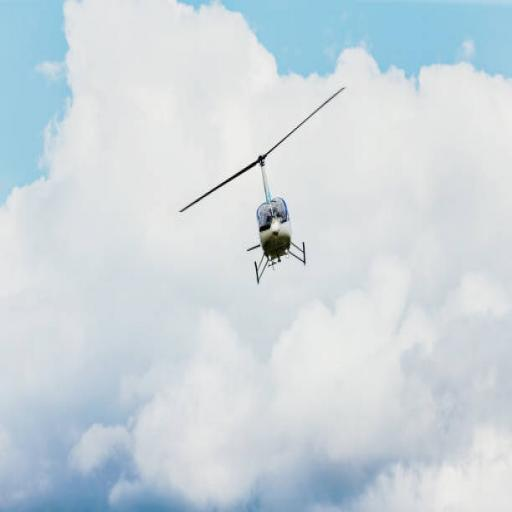helicopter: (179, 87, 351, 281)
